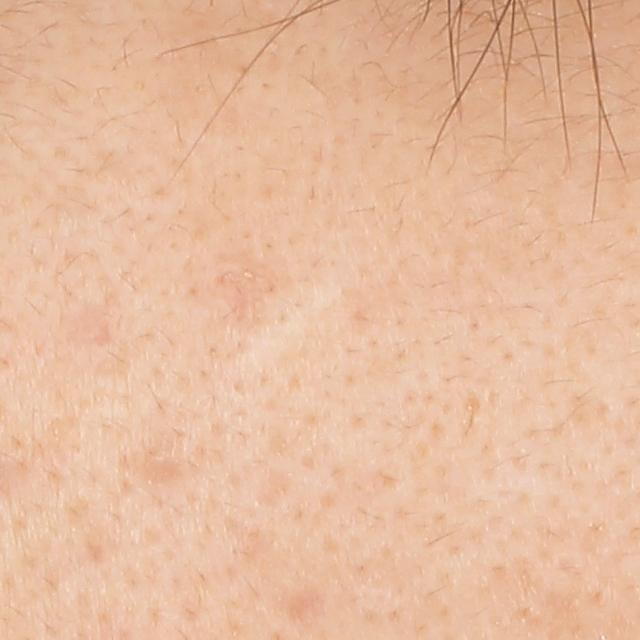atrophic_scar: (460, 393, 481, 445)
